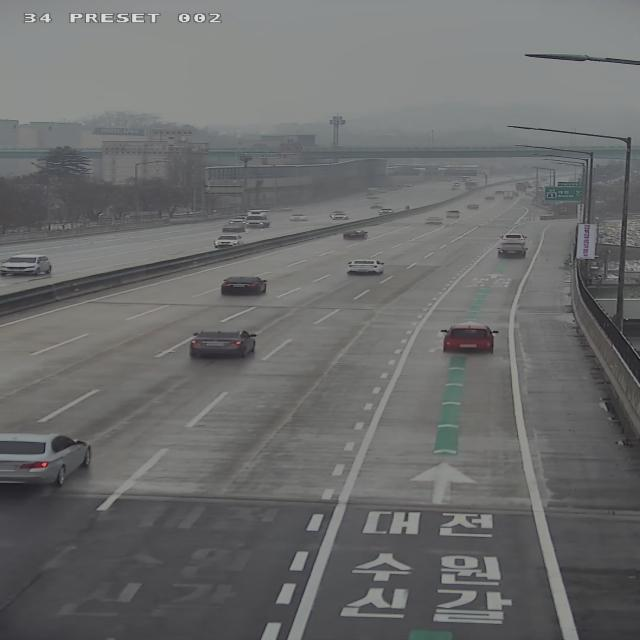Car: (0, 433, 91, 489), (190, 331, 257, 358), (441, 327, 498, 354), (0, 255, 52, 275), (222, 277, 267, 296), (347, 259, 385, 275), (497, 244, 528, 258), (218, 220, 248, 234), (214, 235, 244, 248), (438, 207, 462, 220), (284, 210, 308, 222), (500, 234, 528, 244), (228, 213, 249, 226), (328, 210, 350, 221), (344, 230, 368, 240), (425, 215, 444, 225), (377, 207, 394, 216), (465, 202, 481, 210), (369, 202, 386, 209)
Truck: (242, 209, 272, 227), (502, 189, 515, 199)
